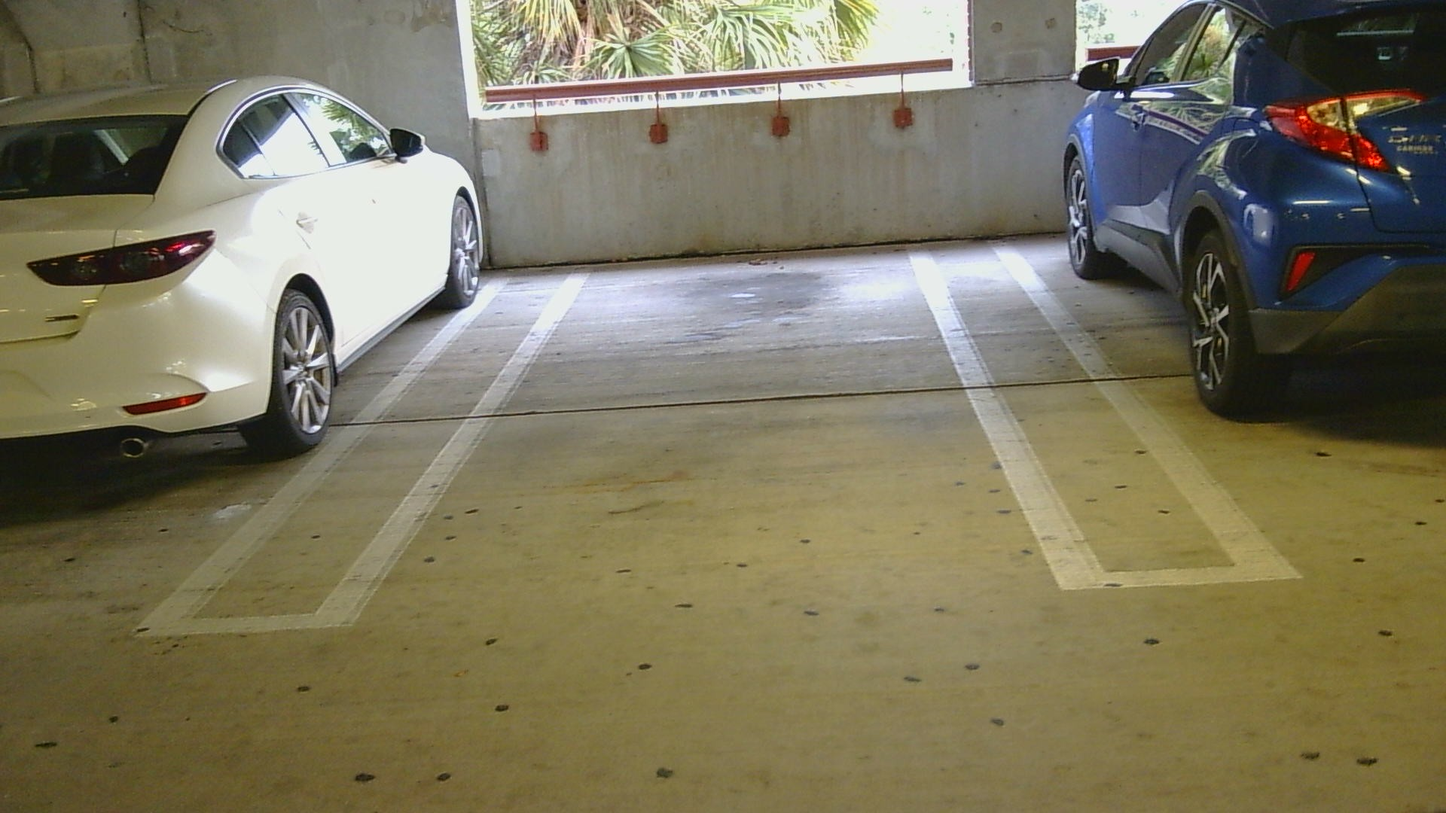empty_spot: (235, 128, 1181, 640)
occupied_spot: (0, 51, 504, 521), (1060, 0, 1445, 441)
